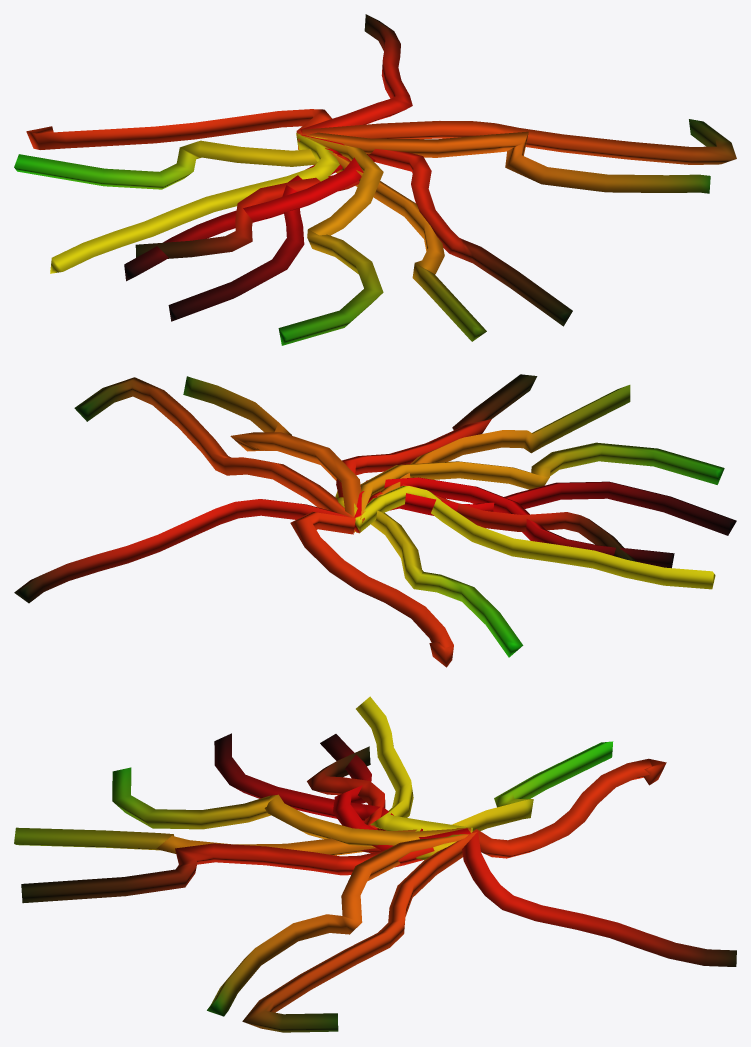
File: Alien07.fbx
3 renders of one model, top to bottom at view 1: azimuth 30°, elevation 25°; view 2: azimuth 150°, elevation 25°; view 3: azimuth 270°, elevation 25°, orthographic. The views are drawn at different scales.
Visible parts, largest first — view 1: transform5; view 2: transform5; view 3: transform5.
Boxes of the visible parts, bbox=[...] form: transform5: bbox=[14, 14, 736, 345]; transform5: bbox=[14, 374, 736, 667]; transform5: bbox=[14, 696, 736, 1032].
Size of the model in its own units: 234 by 18.89 by 221.
